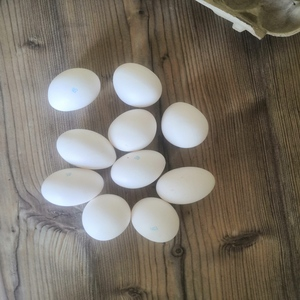white egg: (56, 127, 117, 170), (41, 167, 105, 207), (81, 193, 132, 241), (47, 67, 102, 111), (112, 61, 163, 108), (130, 196, 181, 243), (155, 166, 216, 205), (160, 101, 209, 149), (110, 148, 167, 189), (107, 107, 157, 153)
